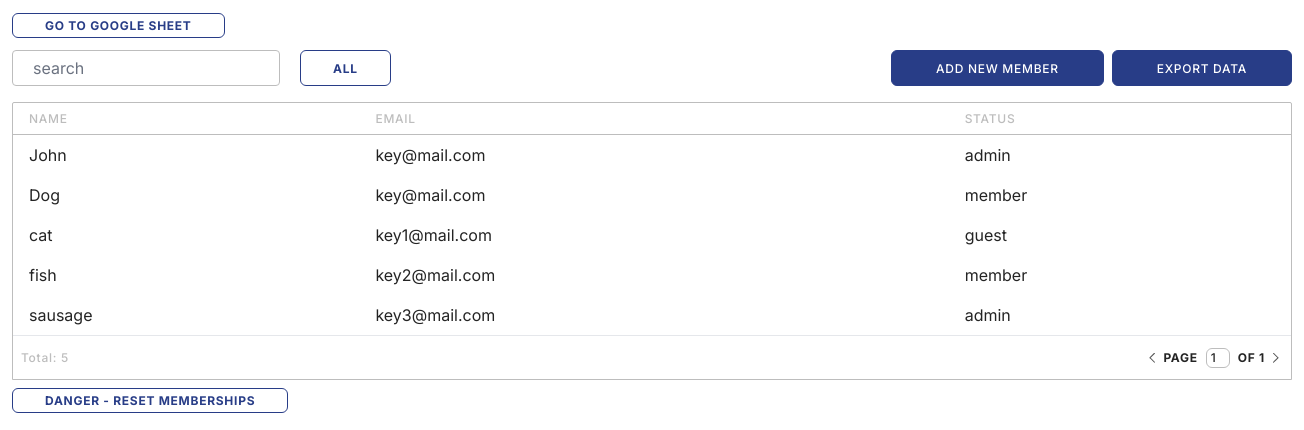
AdminMemberView › Filters the data properly by account type
The width and height of the screenshot is (1304, 430).
Cycle through filters
Click the button "all" at (345,68), box [300,50,391,86]
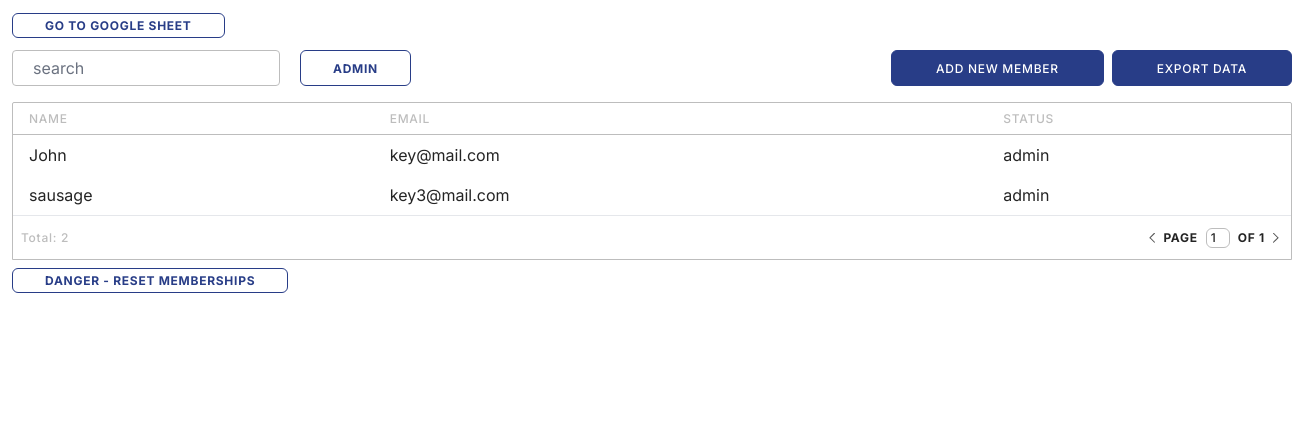
expect the text "sausage" is shown: met, box [13,175,374,215]
expect the text "Dog" is gone: met
expect the text "cat" is gone: met
Click the button "all" at (355,68), box [300,50,411,86]
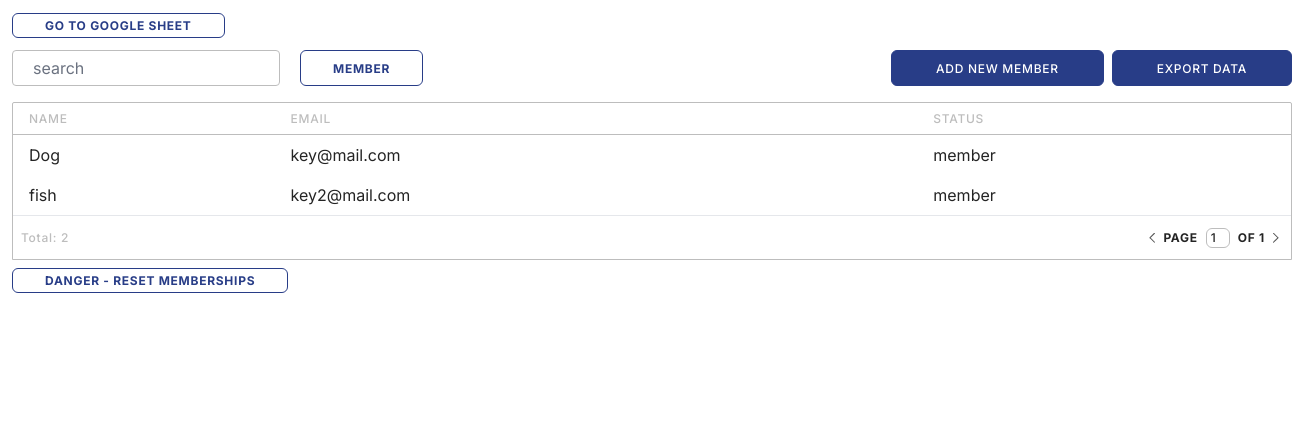
expect the text "John" is gone: met
expect the text "sausage" is gone: met
expect the text "Dog" is shown: met, box [13,134,275,175]
Click the button "all" at (362,68), box [300,50,423,86]
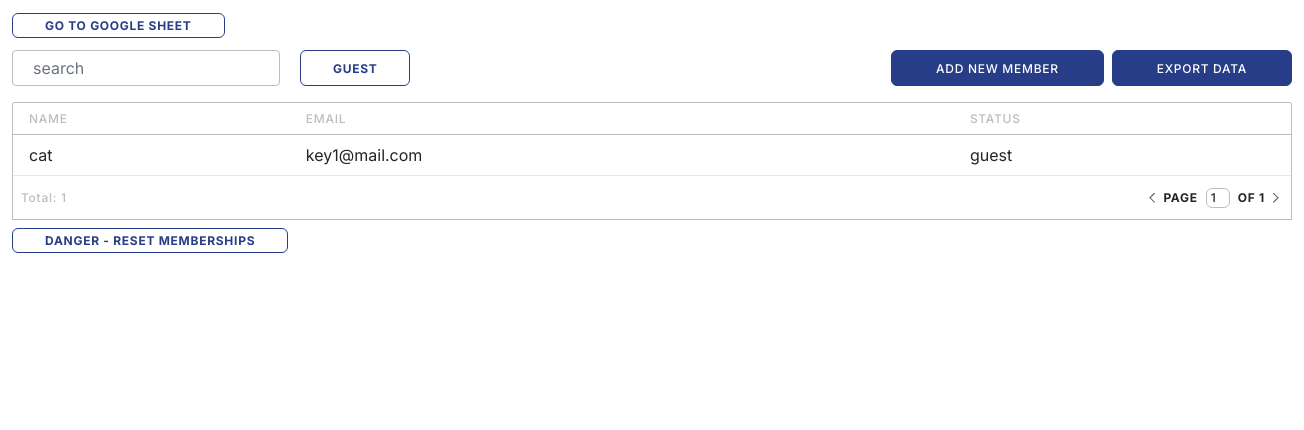
expect the text "Dog" is gone: met
expect the text "cat" is shown: met, box [13,134,290,175]
expect the text "fish" is gone: met
Click the button "all" at (355,68), box [300,50,410,86]
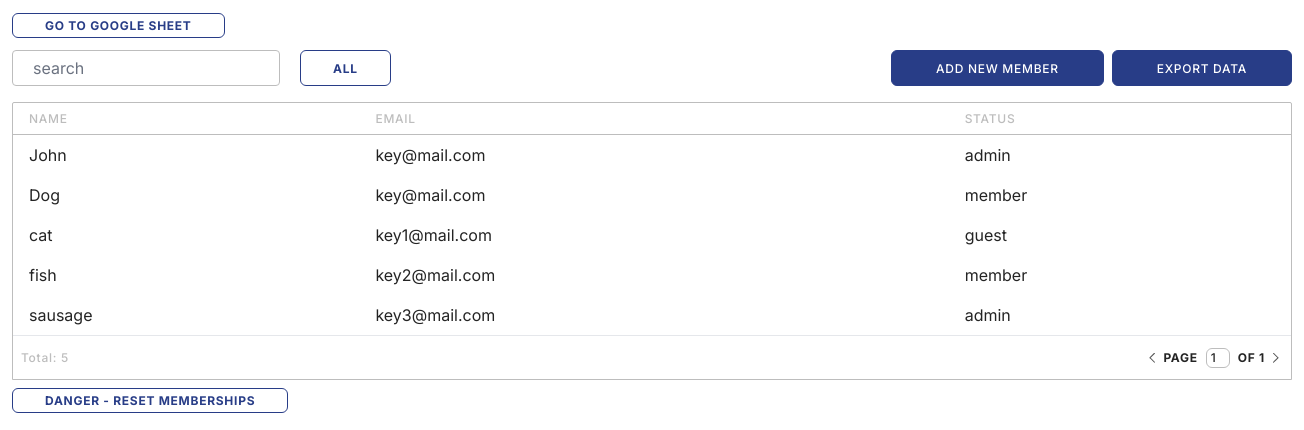
expect the text "John" is shown: met, box [13,134,359,175]
expect the text "sausage" is shown: met, box [13,295,359,335]
expect the text "Dog" is shown: met, box [13,175,359,215]
